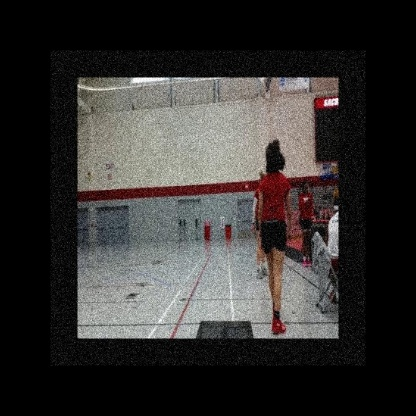lateral_flexion_left: (258, 137, 295, 335)
stance_width_narrow: (257, 172, 294, 334)
